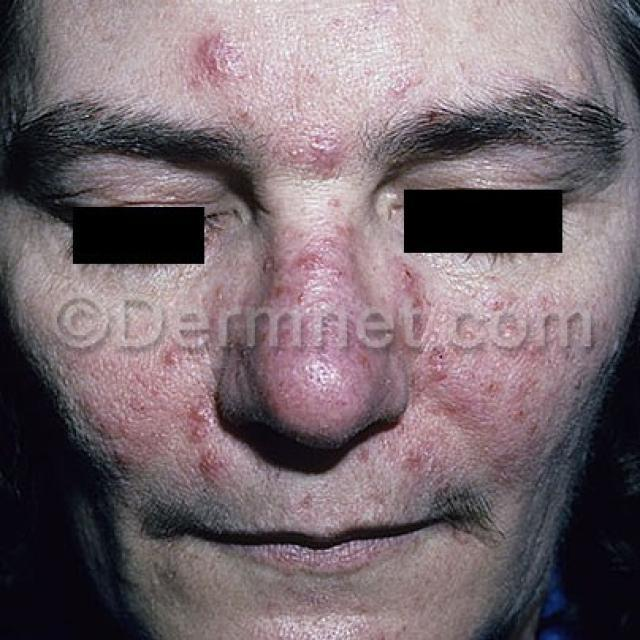skinredness: (103, 173, 547, 531)
